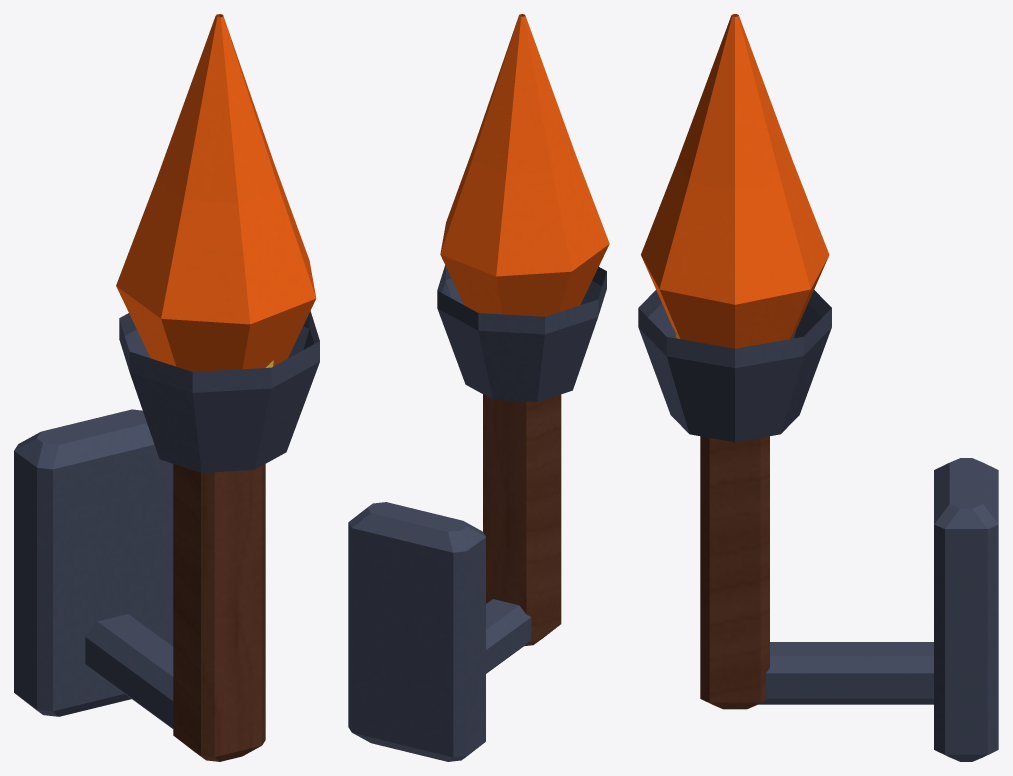
Rendered from Prop_WallTorch.obj.
3 renders of one model, left to right at view 1: azimuth 30°, elevation 25°; view 2: azimuth 150°, elevation 25°; view 3: azimuth 270°, elevation 25°, orthographic. The views are drawn at different scales.
Visible parts, largest first — view 1: Amber_flame, Wall_plate, Wood_handle, Brazier, Bracket; view 2: Wall_plate, Amber_flame, Wood_handle, Brazier, Bracket; view 3: Amber_flame, Wall_plate, Wood_handle, Brazier, Bracket.
Part boxes in pixels (<box>): Amber_flame: <box>116,14,316,371</box>; Wall_plate: <box>14,409,173,716</box>; Wood_handle: <box>173,464,265,761</box>; Brazier: <box>119,311,319,472</box>; Bracket: <box>85,614,173,728</box>; Wall_plate: <box>348,502,485,761</box>; Amber_flame: <box>440,14,609,316</box>; Wood_handle: <box>483,394,561,646</box>; Brazier: <box>437,265,606,401</box>; Bracket: <box>486,599,531,673</box>; Amber_flame: <box>641,14,829,348</box>; Wall_plate: <box>934,458,998,761</box>; Wood_handle: <box>700,436,769,709</box>; Brazier: <box>638,290,831,442</box>; Bracket: <box>758,642,933,704</box>.
Size of the model in its own units: 0.36 by 1.48 by 0.67.
Materials: 4 (4 with a texture image).
